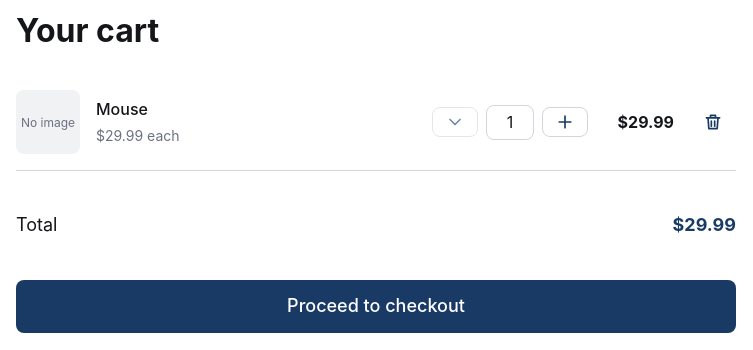
Test: CartPage › shows the empty-cart state after removing the LAST item
Expected: the link "Mouse" is shown, [96,99,148,119]
Click the button named "Remove Mouse from cart": {"x": 713, "y": 122} [690,107,736,137]
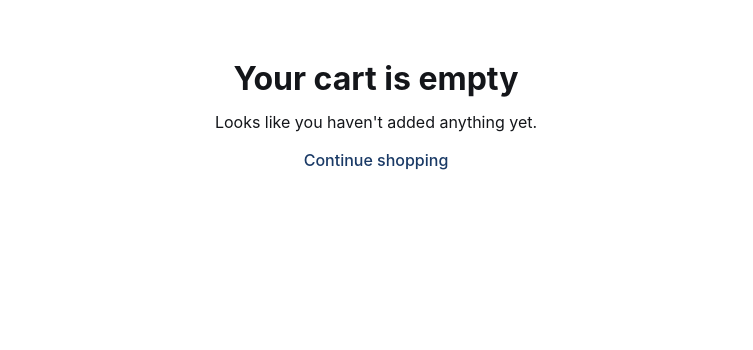
Expected: the heading "Your cart is empty" is shown, [234,60,518,98]
